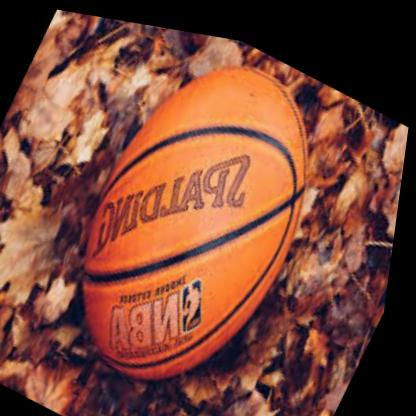basketball: (40, 11, 362, 416)
